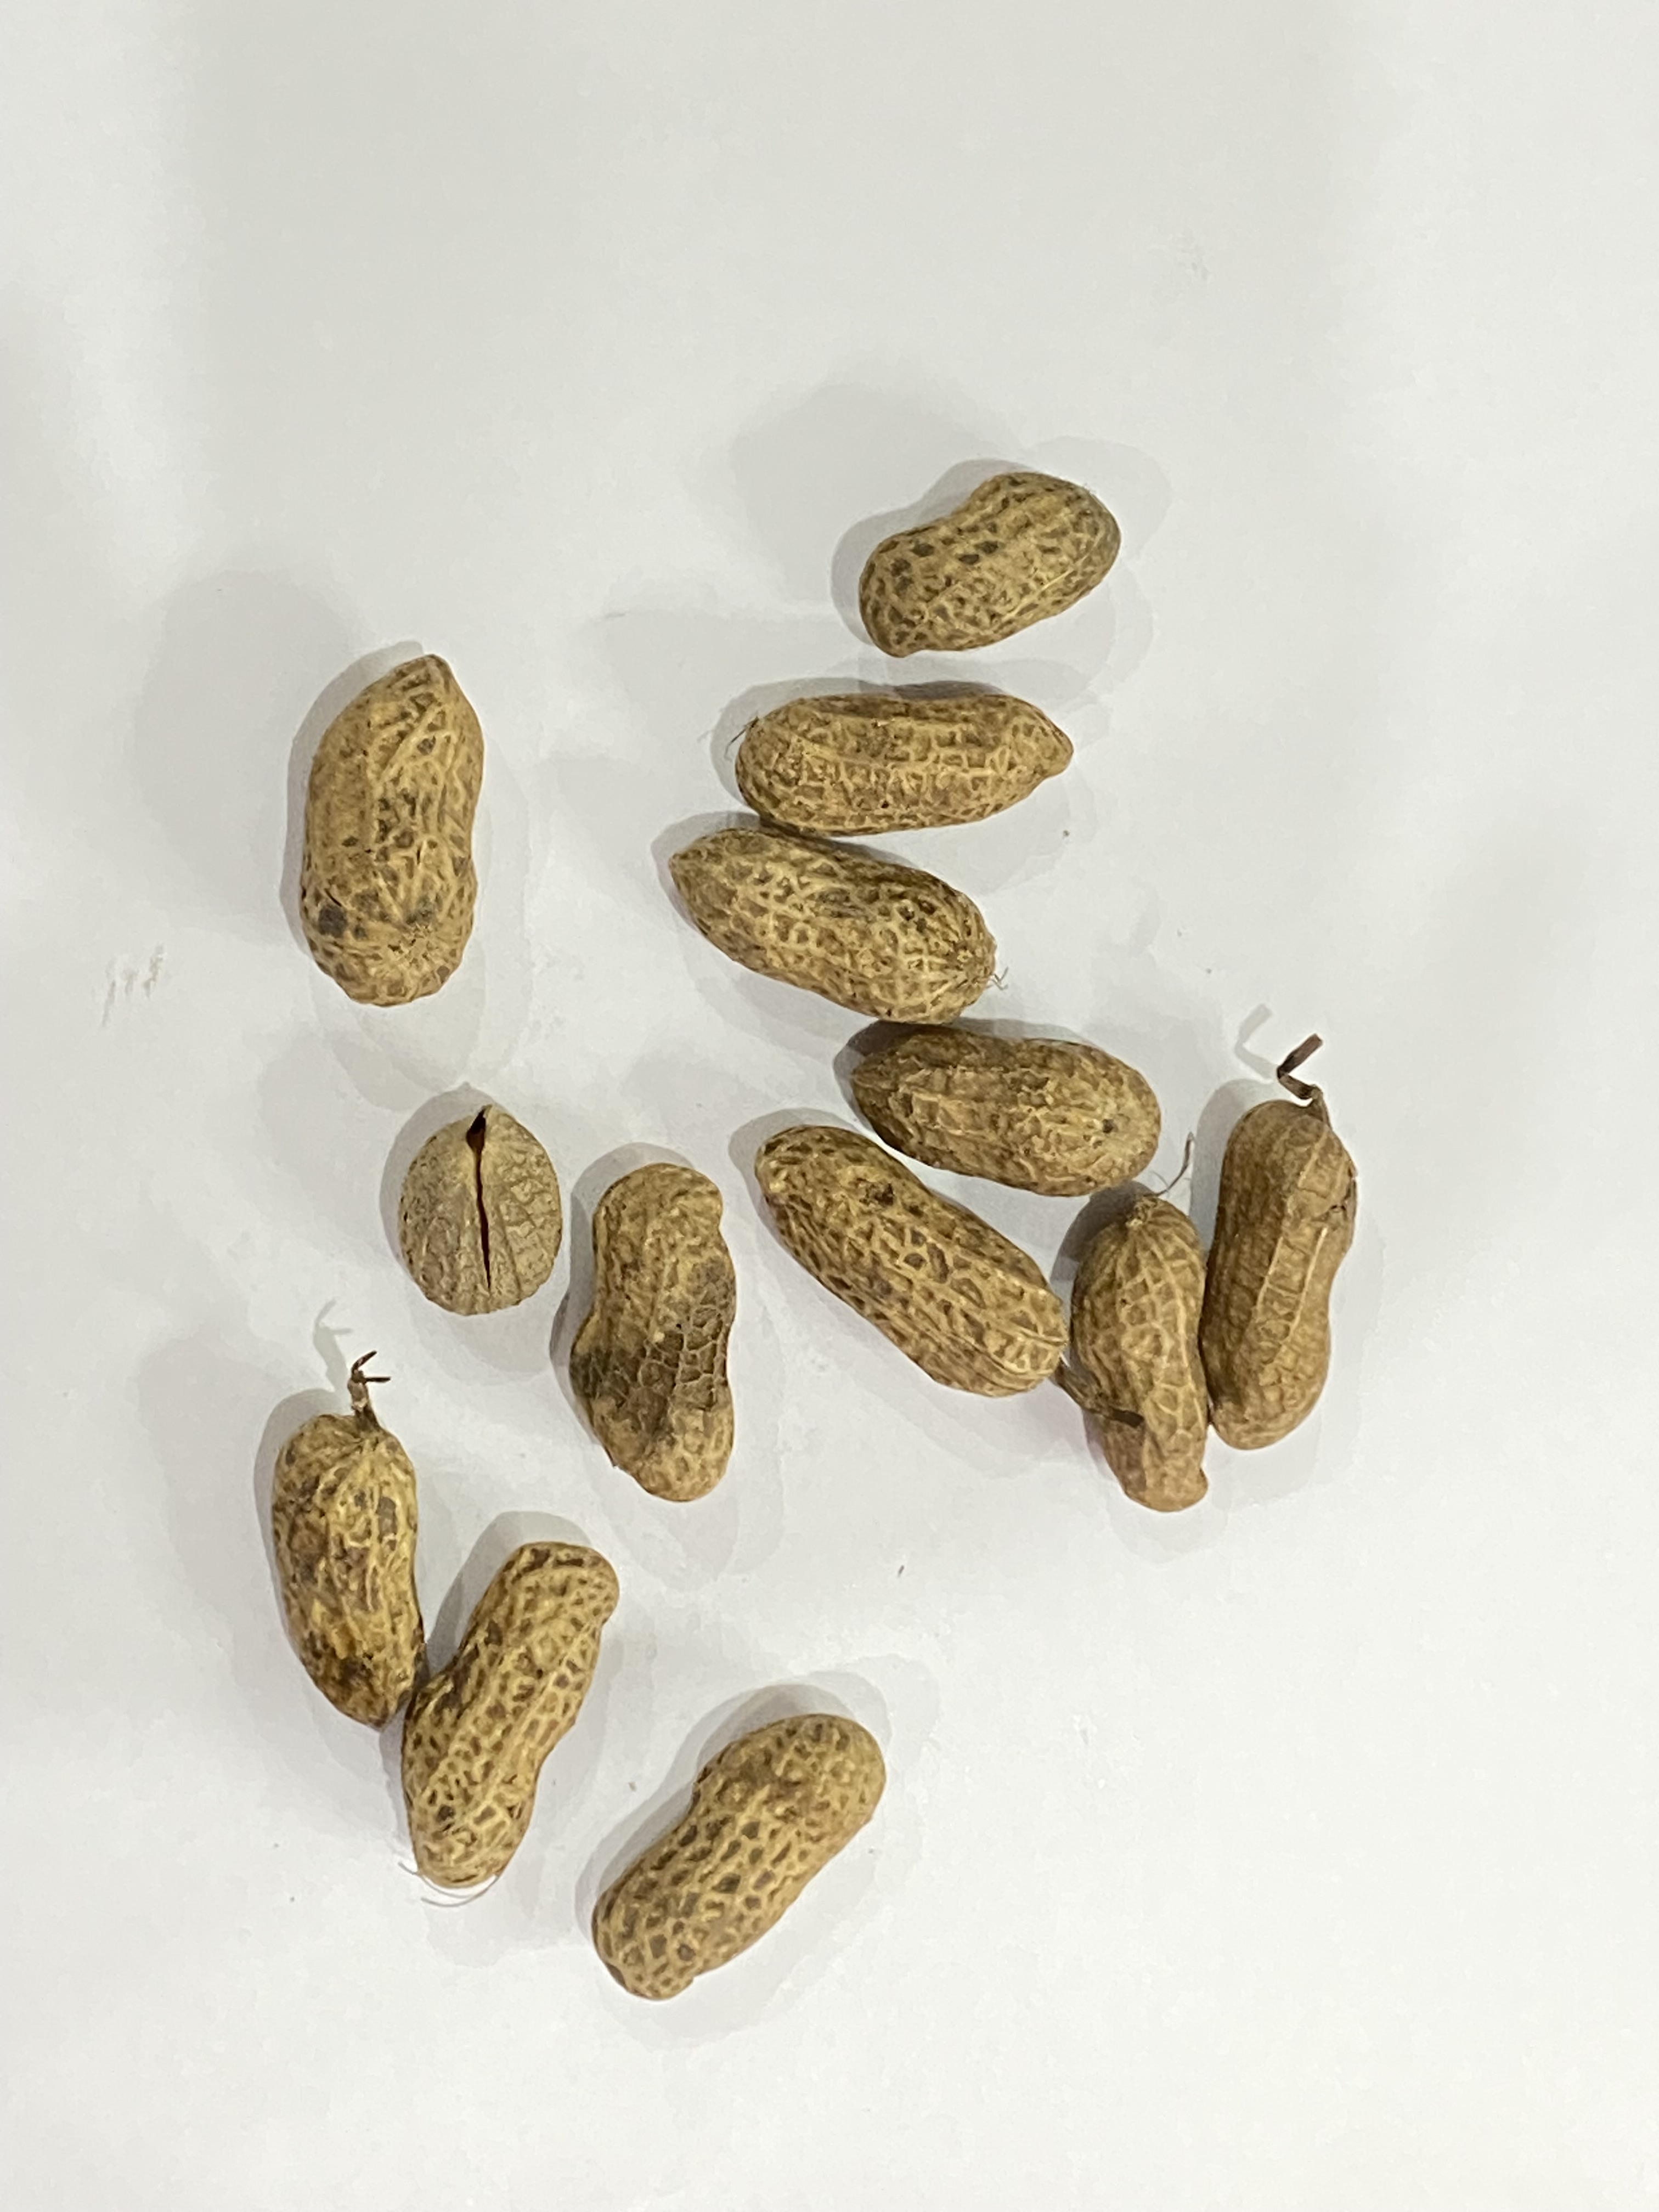kacang1: (573, 1151, 739, 1500), (399, 1103, 563, 1322)
kacang2: (753, 1116, 1065, 1400), (591, 1716, 896, 2001), (289, 650, 505, 1010), (821, 472, 1180, 657), (666, 829, 1006, 1017), (849, 1024, 1162, 1202), (732, 681, 1073, 838)
